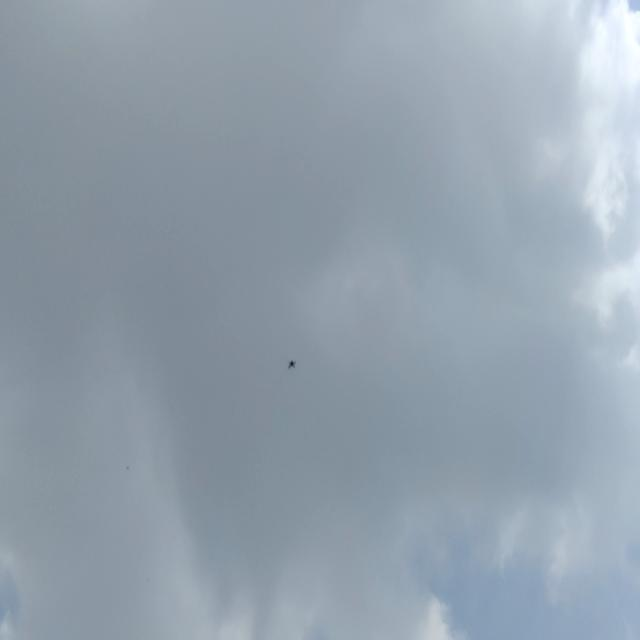drone: (284, 358, 299, 374)
